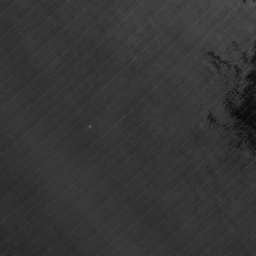Target: (87, 124, 92, 129)
